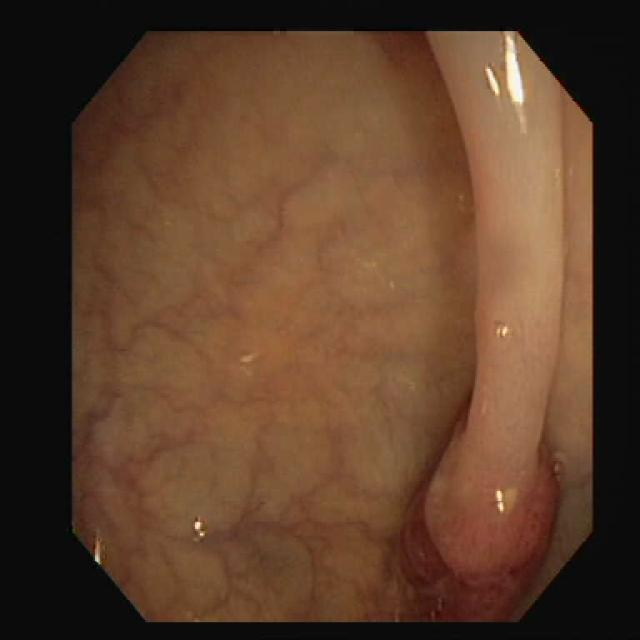tumor: (413, 407, 557, 551)
